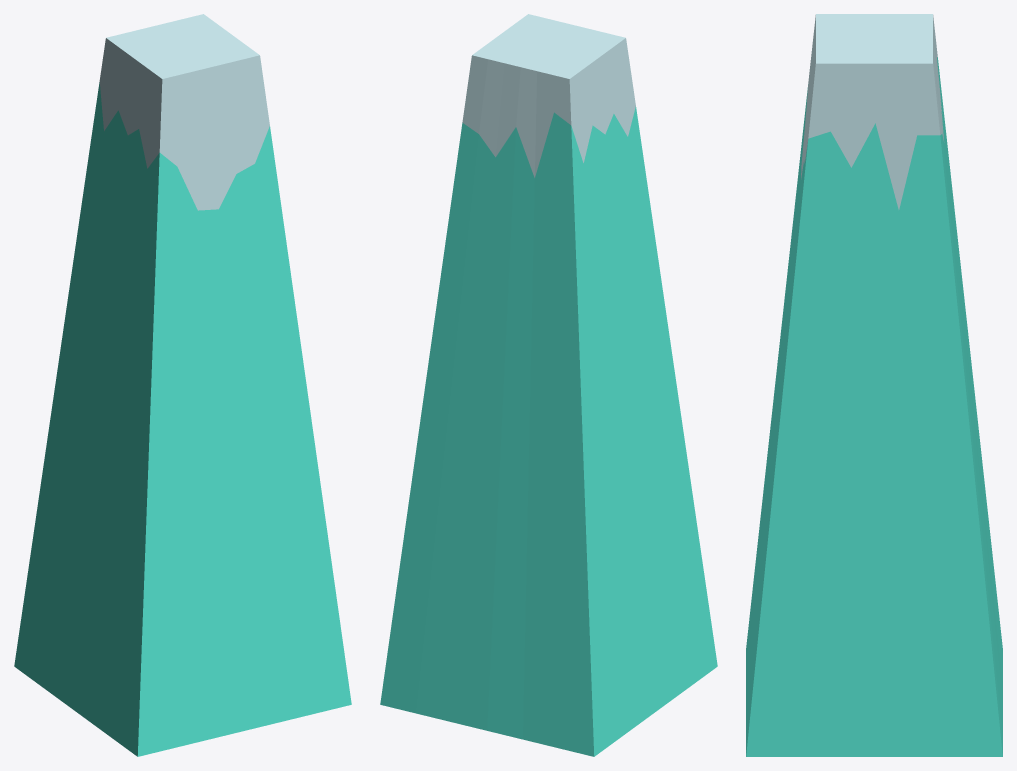
File: Mountain6.fbx
3 renders of one model, left to right at view 1: azimuth 30°, elevation 25°; view 2: azimuth 150°, elevation 25°; view 3: azimuth 270°, elevation 25°, orthographic. The views are drawn at different scales.
Visible parts, largest first — view 1: dağ2.001; view 2: dağ2.001; view 3: dağ2.001.
Boxes of the visible parts, x1,y1,x2,y2 form: dağ2.001: (14, 14, 351, 756); dağ2.001: (380, 14, 717, 756); dağ2.001: (746, 14, 1002, 756).
Bounding box in the file's own units: 0.9033 × 2.58 × 0.9033.
